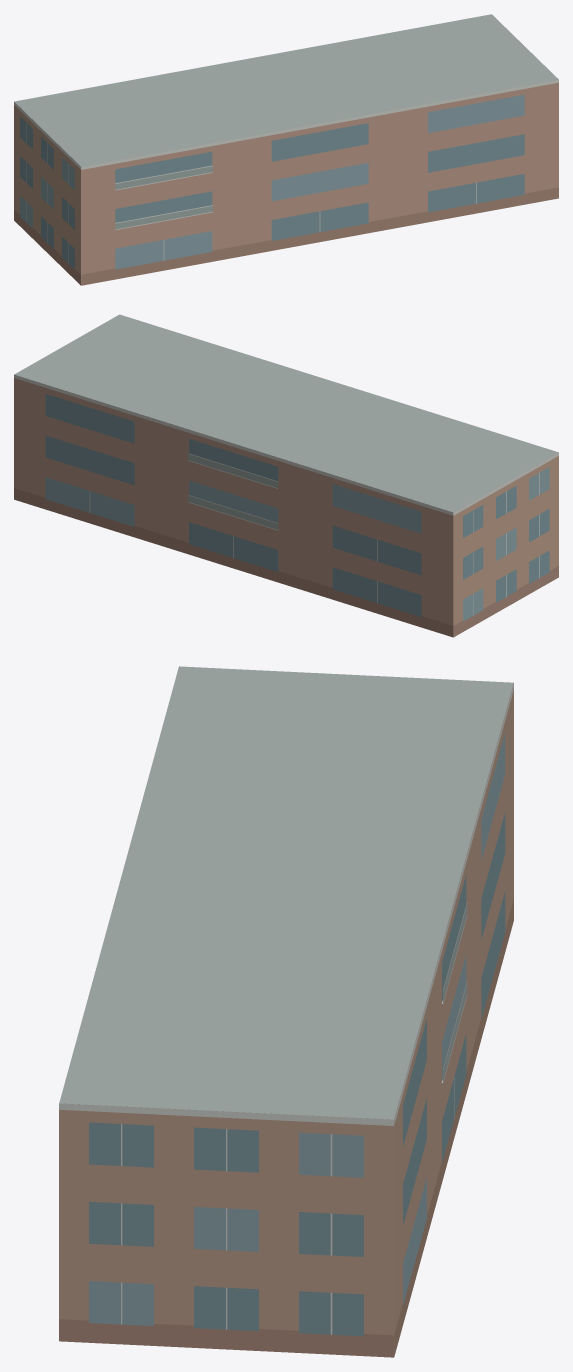
Rendered from survey-upis-32806174.glb.
3 renders of one model, top to bottom at view 1: azimuth 30°, elevation 25°; view 2: azimuth 150°, elevation 25°; view 3: azimuth 270°, elevation 25°, orthographic. The views are drawn at different scales.
Parts seen in each view (by area): view 1: survey-upis-32806174.tmp; view 2: survey-upis-32806174.tmp; view 3: survey-upis-32806174.tmp.
Part boxes in pixels (<box>): survey-upis-32806174.tmp: <box>14,14,558,285</box>; survey-upis-32806174.tmp: <box>14,314,558,637</box>; survey-upis-32806174.tmp: <box>59,666,513,1357</box>.
Bounding box in the file's own units: 37.41 × 9.15 × 15.86.
